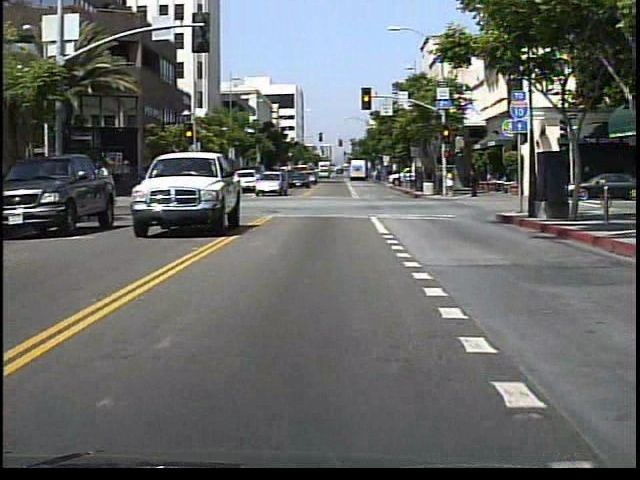person: (466, 168, 481, 201), (178, 170, 191, 197), (445, 168, 456, 198)
